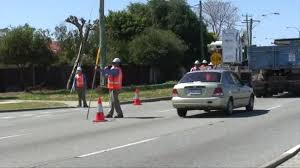car: (172, 68, 256, 118)
cone: (91, 96, 108, 123), (133, 88, 142, 104)
